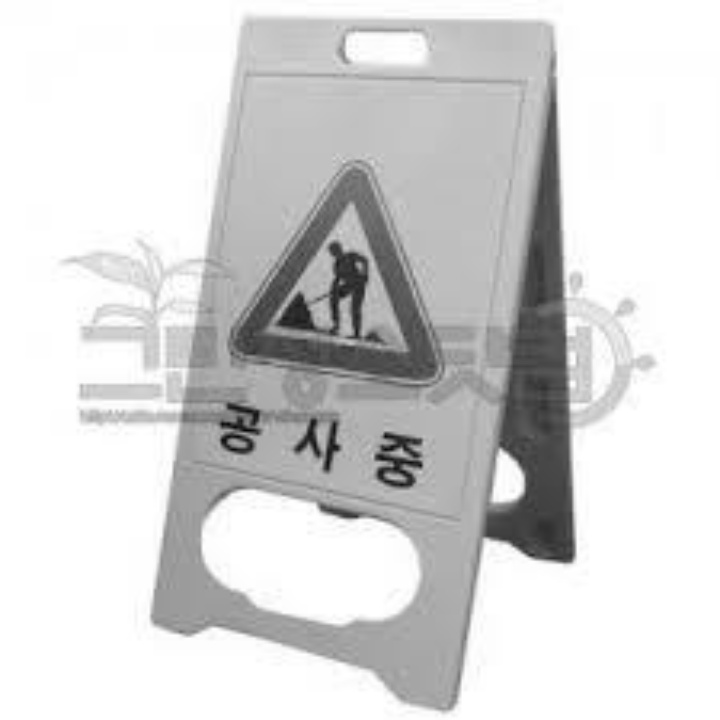const: (253, 183, 411, 351)
